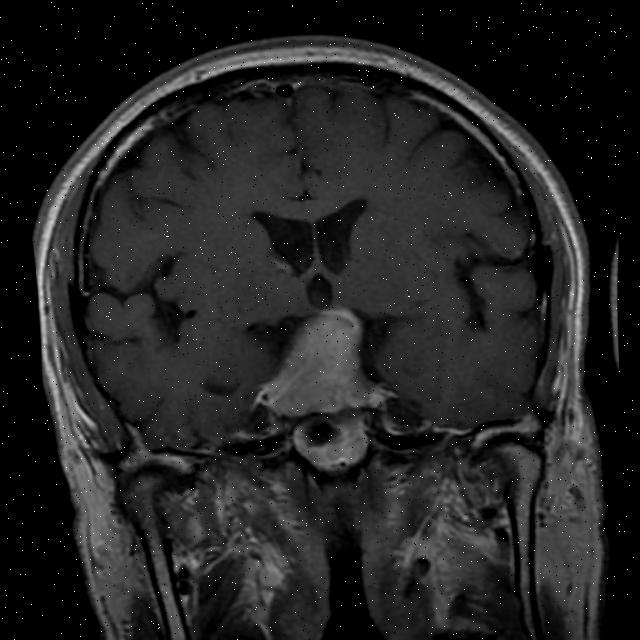Pituitary: (259, 300, 391, 420), (290, 410, 372, 475)
